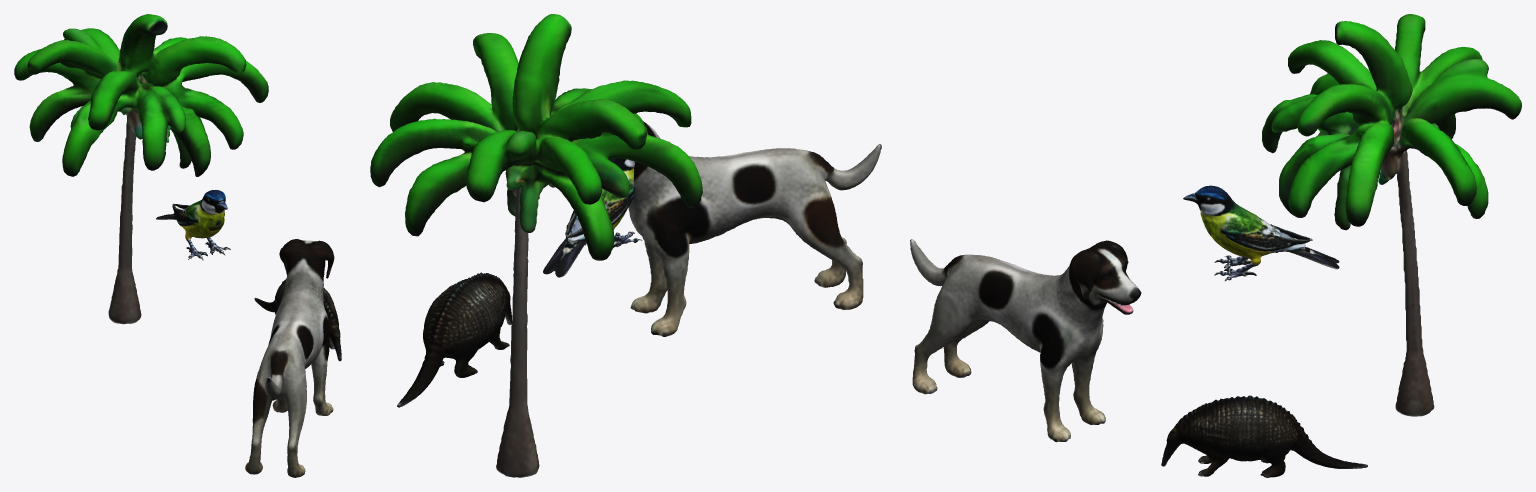
Rendered from armadillo1.glb.
3 views of the same model, side by side, from view 1: azimuth 30°, elevation 25°; view 2: azimuth 150°, elevation 25°; view 3: azimuth 270°, elevation 25° (orthographic). The views are drawn at different scales.
Visible parts, largest first — view 1: Mesh_0.005, Mesh_0.001, Mesh_0.002, Mesh_0; view 2: Mesh_0.005, Mesh_0.001, Mesh_0, Mesh_0.002; view 3: Mesh_0.005, Mesh_0.001, Mesh_0, Mesh_0.002.
Boxes of the visible parts, <box> form: Mesh_0.005: <box>14,14,268,324</box>; Mesh_0.001: <box>245,239,334,477</box>; Mesh_0.002: <box>156,190,230,260</box>; Mesh_0: <box>254,278,341,361</box>; Mesh_0.005: <box>370,14,702,477</box>; Mesh_0.001: <box>628,121,881,336</box>; Mesh_0: <box>397,272,512,407</box>; Mesh_0.002: <box>543,158,642,277</box>; Mesh_0.005: <box>1262,14,1521,416</box>; Mesh_0.001: <box>910,239,1141,442</box>; Mesh_0: <box>1161,395,1367,477</box>; Mesh_0.002: <box>1183,185,1339,281</box>.
Bounding box in the file's own units: 14.79 × 19.65 × 27.98.
4 materials, 4 textured.
